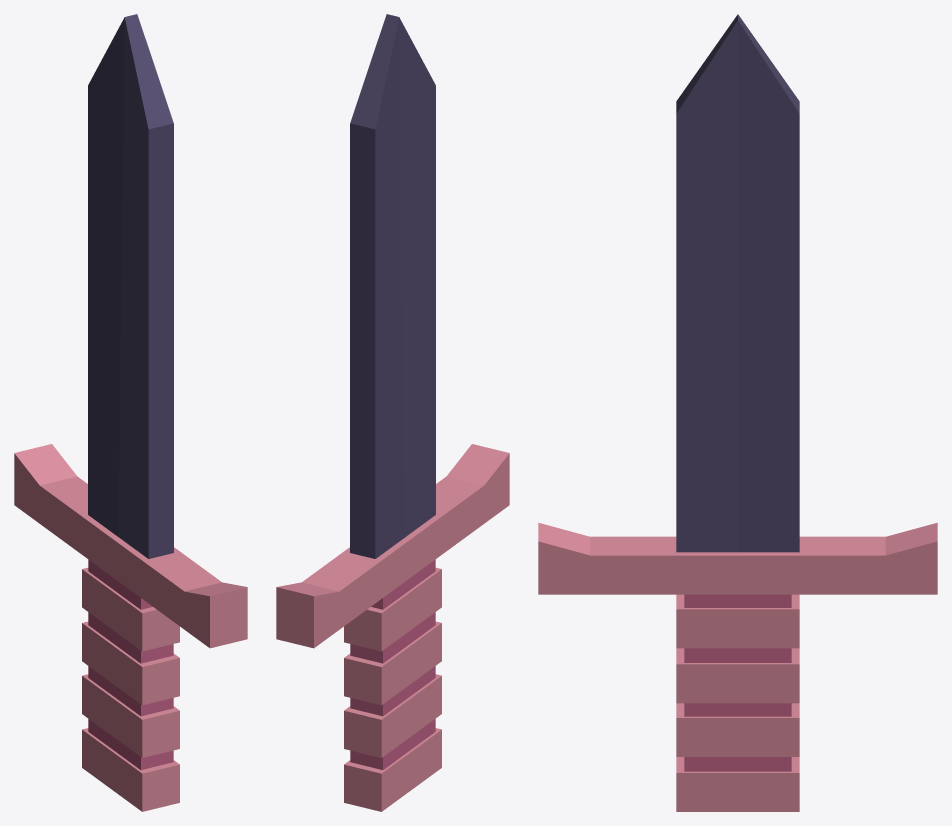
File: stoneSword.glb
3 views of the same model, side by side, from view 1: azimuth 30°, elevation 25°; view 2: azimuth 150°, elevation 25°; view 3: azimuth 270°, elevation 25° (orthographic). The views are drawn at different scales.
Parts seen in each view (by area): view 1: Cube.009, Cube.008, Cube.002, Cube.006, Cube.001, Cube.005, Cube, Cube.007, Cube.003, Cube.004; view 2: Cube.009, Cube.008, Cube.002, Cube.006, Cube.001, Cube.005, Cube, Cube.007, Cube.003, Cube.004; view 3: Cube.009, Cube.008, Cube.006, Cube.001, Cube.005, Cube.002, Cube, Cube.007, Cube.003, Cube.004.
Part boxes in pixels (<box>): Cube.009: <box>88,14,173,558</box>; Cube.008: <box>14,444,247,648</box>; Cube.002: <box>82,674,179,757</box>; Cube.006: <box>82,621,179,705</box>; Cube.001: <box>82,728,179,811</box>; Cube.005: <box>82,567,179,651</box>; Cube: <box>88,719,173,769</box>; Cube.007: <box>88,612,173,663</box>; Cube.003: <box>88,666,173,716</box>; Cube.004: <box>88,559,152,609</box>; Cube.009: <box>350,14,435,558</box>; Cube.008: <box>276,444,509,648</box>; Cube.002: <box>344,674,441,757</box>; Cube.006: <box>344,621,441,705</box>; Cube.001: <box>344,728,441,811</box>; Cube.005: <box>344,567,441,651</box>; Cube: <box>350,719,435,769</box>; Cube.007: <box>350,612,435,663</box>; Cube.003: <box>350,666,435,716</box>; Cube.004: <box>371,559,435,609</box>; Cube.009: <box>676,14,799,552</box>; Cube.008: <box>538,522,937,594</box>; Cube.006: <box>676,648,799,703</box>; Cube.001: <box>676,757,799,811</box>; Cube.005: <box>676,594,799,648</box>; Cube.002: <box>676,703,799,756</box>; Cube: <box>684,757,791,771</box>; Cube.007: <box>684,648,791,662</box>; Cube.003: <box>684,703,791,716</box>; Cube.004: <box>684,594,791,607</box>.
Size of the model in its own units: 0.7177 by 14.01 by 6.46.
1 material, 1 textured.
